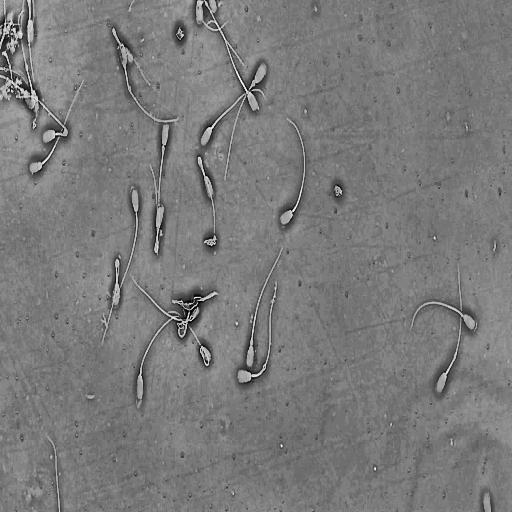coiled-tail: (188, 324, 209, 366)
dirt-particles: (0, 9, 24, 56), (0, 74, 26, 104), (330, 176, 349, 205), (203, 233, 218, 250), (174, 25, 185, 42), (31, 120, 37, 130)
distal-droplet: (262, 362, 267, 372), (127, 85, 132, 94), (453, 352, 457, 360), (162, 144, 165, 154), (25, 64, 29, 71)
folded-tail: (14, 95, 68, 137), (113, 28, 150, 84), (197, 157, 215, 239), (102, 261, 119, 345), (150, 164, 159, 253)
loose-tail: (45, 431, 62, 512)
normal: (205, 5, 263, 119), (223, 58, 270, 193), (28, 75, 86, 177), (205, 5, 258, 112), (244, 242, 287, 373), (235, 269, 280, 388), (117, 41, 181, 124), (198, 85, 271, 147), (135, 314, 186, 402), (104, 188, 142, 305), (433, 256, 463, 398), (278, 111, 311, 232), (200, 89, 267, 146), (15, 94, 69, 145), (281, 118, 306, 225), (111, 25, 153, 88), (409, 299, 478, 335), (157, 122, 171, 256), (101, 256, 121, 345), (196, 153, 216, 242), (21, 16, 39, 114), (149, 161, 165, 254), (187, 320, 213, 369)
proximal-droplet: (249, 337, 254, 346), (251, 79, 256, 87)
